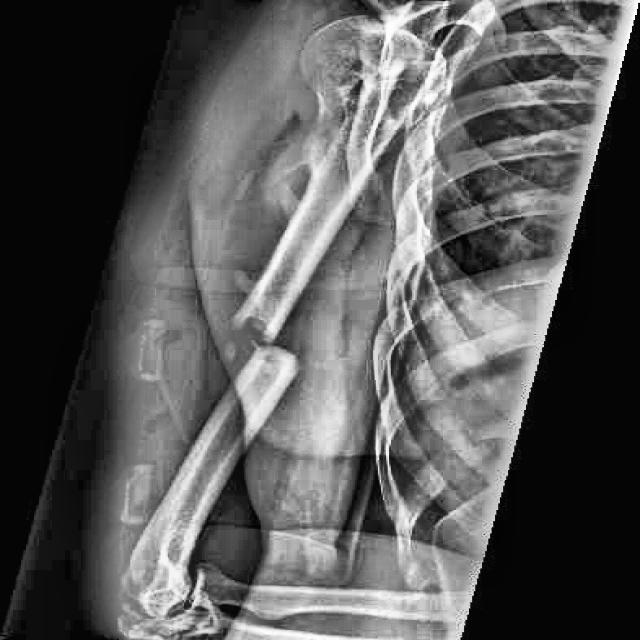humerus: (167, 244, 359, 466)
